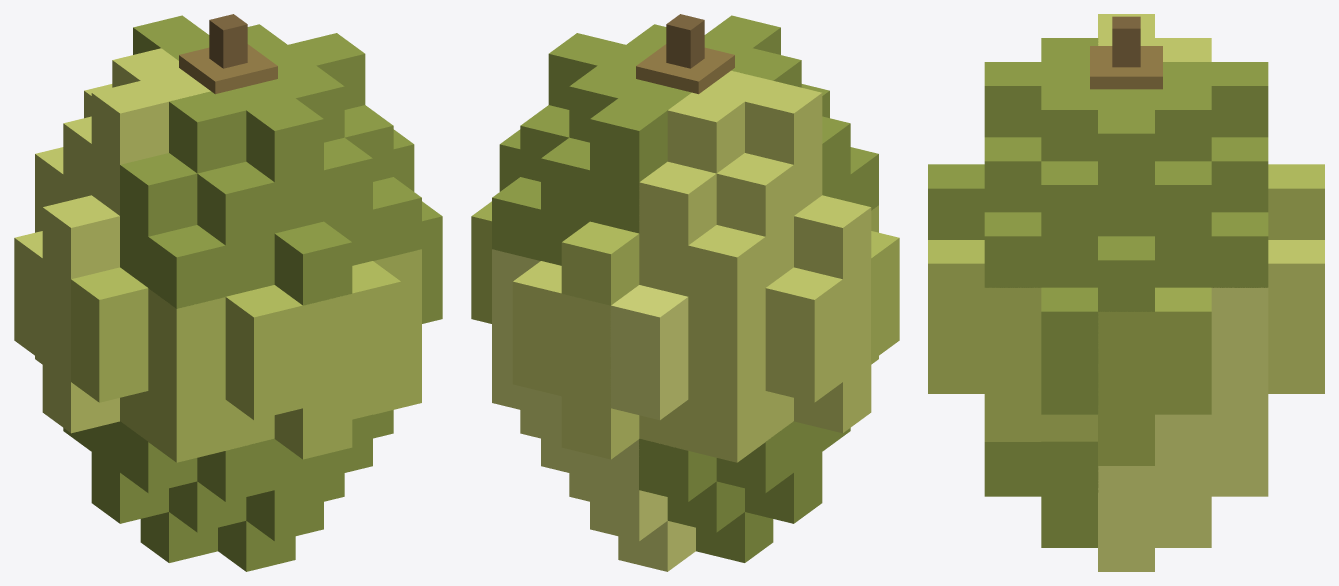
The model's file is EG-02_ross.glb.
3 views of the same model, side by side, from view 1: azimuth 30°, elevation 25°; view 2: azimuth 150°, elevation 25°; view 3: azimuth 270°, elevation 25° (orthographic).
Parts seen in each view (by area): view 1: Ross · original workbench cubes; view 2: Ross · original workbench cubes; view 3: Ross · original workbench cubes.
Part boxes in pixels (x1,y1,x2,y2): Ross · original workbench cubes: (14, 14, 442, 571); Ross · original workbench cubes: (471, 14, 899, 571); Ross · original workbench cubes: (928, 14, 1324, 571).
Size of the model in its own units: 0.0981 by 0.14 by 0.0981.
